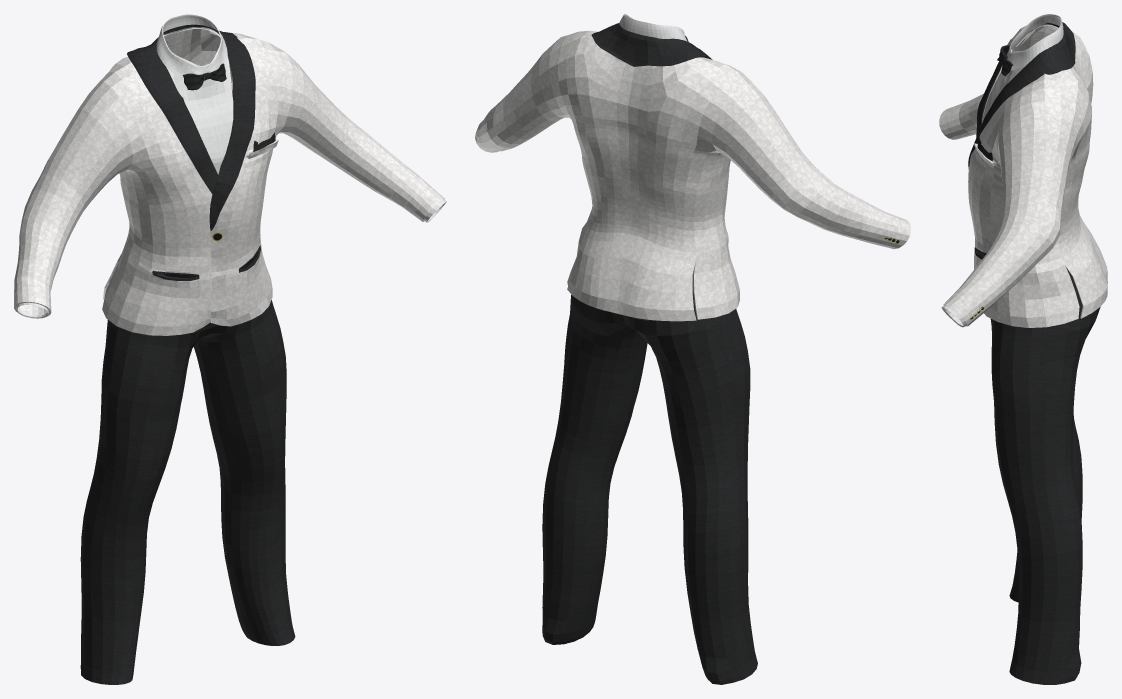
File: garment.glb
3 views of the same model, side by side, from view 1: azimuth 30°, elevation 25°; view 2: azimuth 150°, elevation 25°; view 3: azimuth 270°, elevation 25° (orthographic). The views are drawn at different scales.
Parts seen in each view (by area): view 1: garment; view 2: garment; view 3: garment.
Part boxes in pixels (<box>): garment: <box>14,14,446,684</box>; garment: <box>475,14,910,684</box>; garment: <box>939,14,1107,684</box>.
Size of the model in its own units: 10.37 by 14.6 by 3.61.
1 material, 1 textured.
